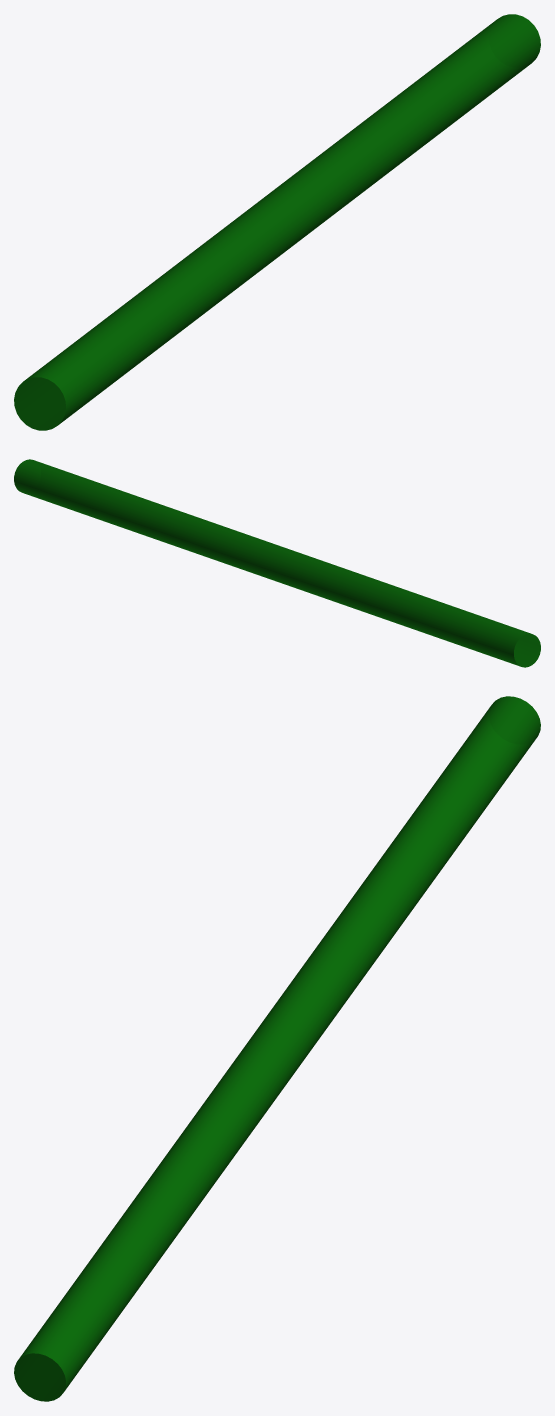
The model's file is Event_421556567_jet_1.fbx.
3 views of the same model, one above another, from view 1: azimuth 90°, elevation 25°; view 2: azimuth 150°, elevation 25°; view 3: azimuth 270°, elevation 25° (orthographic). The views are drawn at different scales.
Parts seen in each view (by area): view 1: Model; view 2: Model; view 3: Model.
Boxes of the visible parts, box(x1,y1,x2,y2) form: Model: box(14, 14, 540, 430); Model: box(14, 459, 540, 667); Model: box(14, 696, 540, 1401).
Size of the model in its own units: 0.8762 by 0.1554 by 0.3759.
